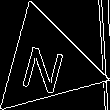N_N: (21, 34, 72, 93)
